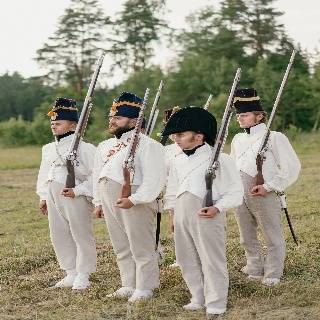rifle: (254, 49, 298, 189), (203, 66, 243, 213), (63, 50, 106, 185), (118, 87, 152, 200), (146, 78, 165, 142)
